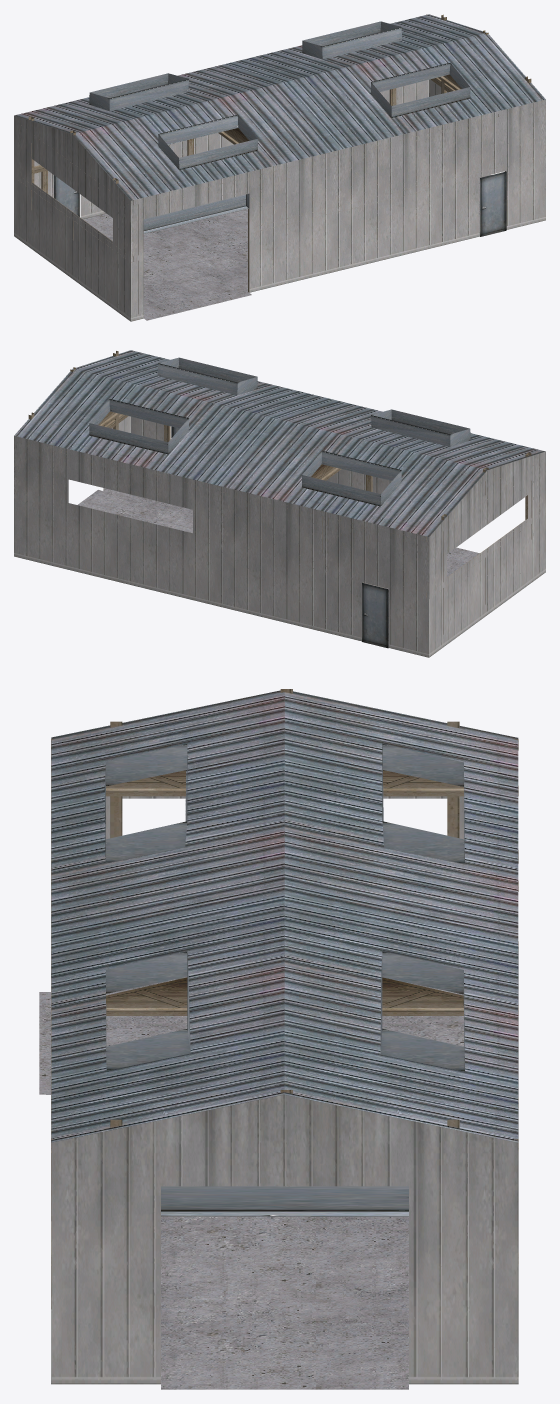
The model's file is sw_shedinterior04.obj.
3 renders of one model, top to bottom at view 1: azimuth 30°, elevation 25°; view 2: azimuth 150°, elevation 25°; view 3: azimuth 270°, elevation 25°, orthographic. The views are drawn at different scales.
Visible parts, largest first — view 1: sw_shedInterior04; view 2: sw_shedInterior04; view 3: sw_shedInterior04.
Part boxes in pixels (left/top/right/bottom): sw_shedInterior04: left=14, top=14, right=545, bottom=321; sw_shedInterior04: left=14, top=350, right=545, bottom=657; sw_shedInterior04: left=39, top=689, right=518, bottom=1389.
Bounding box in the file's own units: 15.8 × 5.31 × 7.84.
6 materials, 6 textured.
